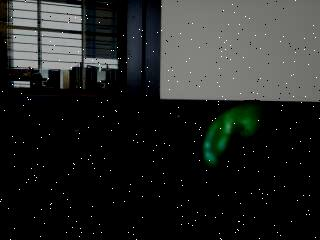Lime: (198, 100, 311, 201)
